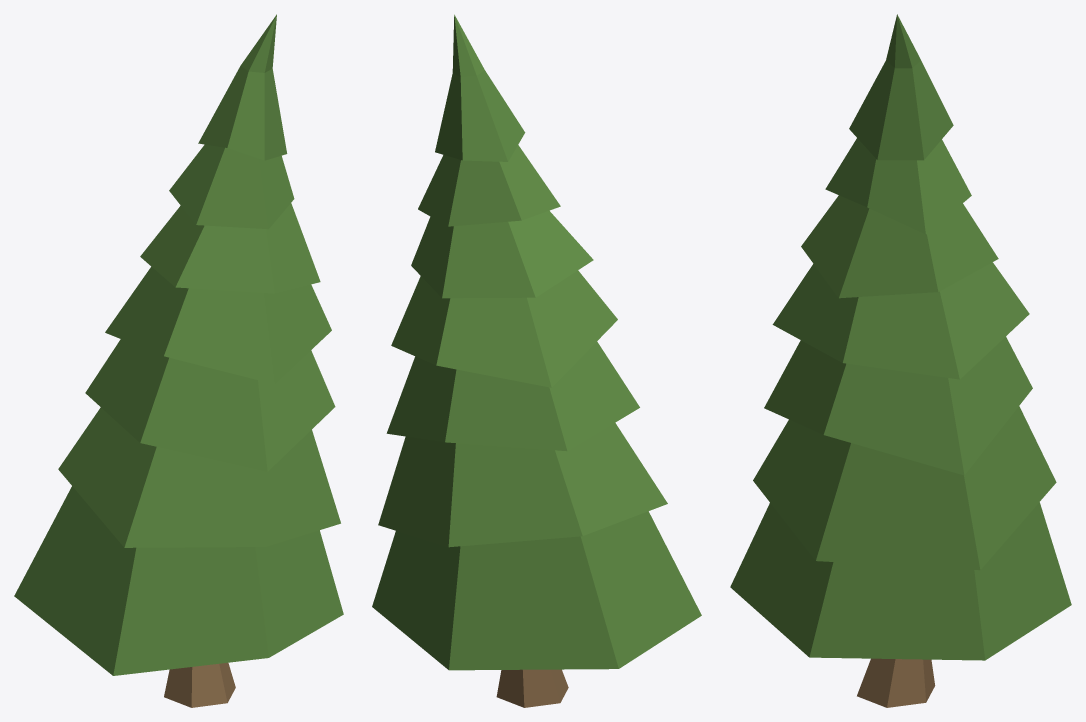
Rendered from pine_2.fbx.
3 views of the same model, side by side, from view 1: azimuth 30°, elevation 25°; view 2: azimuth 150°, elevation 25°; view 3: azimuth 270°, elevation 25° (orthographic). The views are drawn at different scales.
Parts seen in each view (by area): view 1: pine_2; view 2: pine_2; view 3: pine_2.
Boxes of the visible parts, box(x1,y1,x2,y2) form: pine_2: box(14, 14, 343, 707); pine_2: box(372, 14, 701, 707); pine_2: box(730, 14, 1071, 707).
Size of the model in its own units: 151 by 372 by 160.
Materials: 1 (1 with a texture image).
